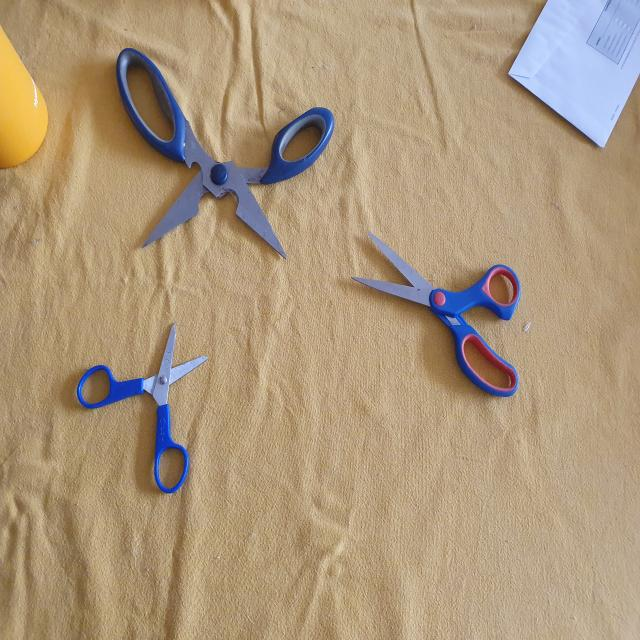scissors: (113, 47, 338, 261), (349, 236, 524, 400), (76, 312, 215, 498)
